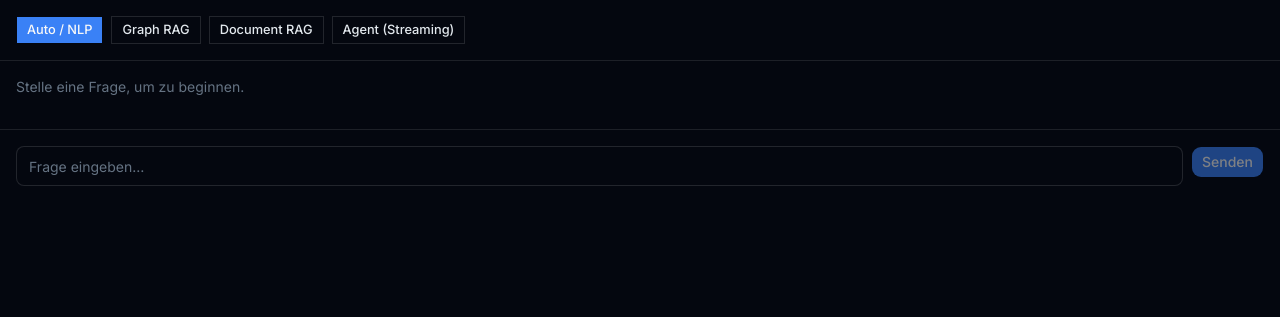
Test: QueryChat › submits a question and renders the assistant answer
The image size is (1280, 317).
Type "Hello?" into the field labelled "Frage" at (600, 166), box [16,146,1183,186]
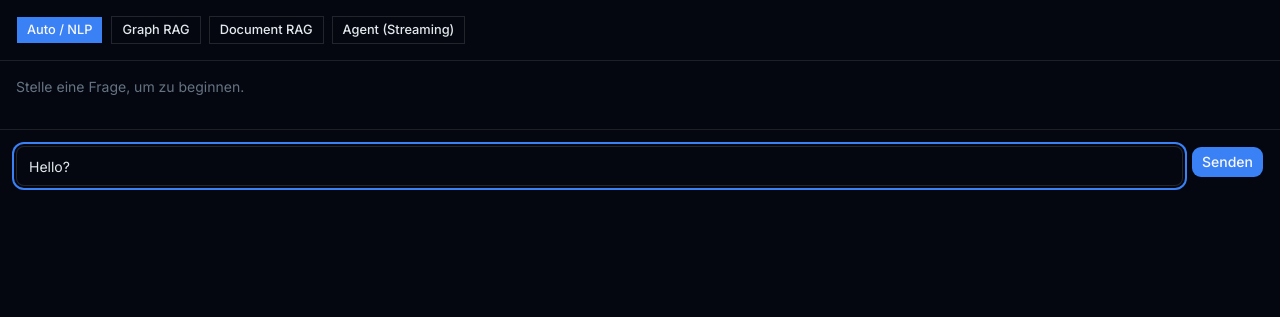
Click the button "Senden" at (1228, 162), box [1191,146,1264,178]
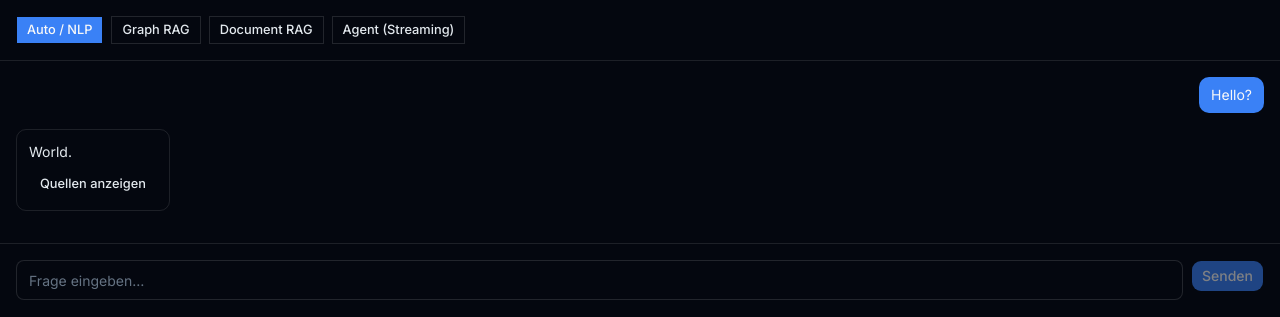
Now the text "Hello?" is shown, box [1199,77,1264,113]
Now the text "World." is shown, box [29,143,72,160]
